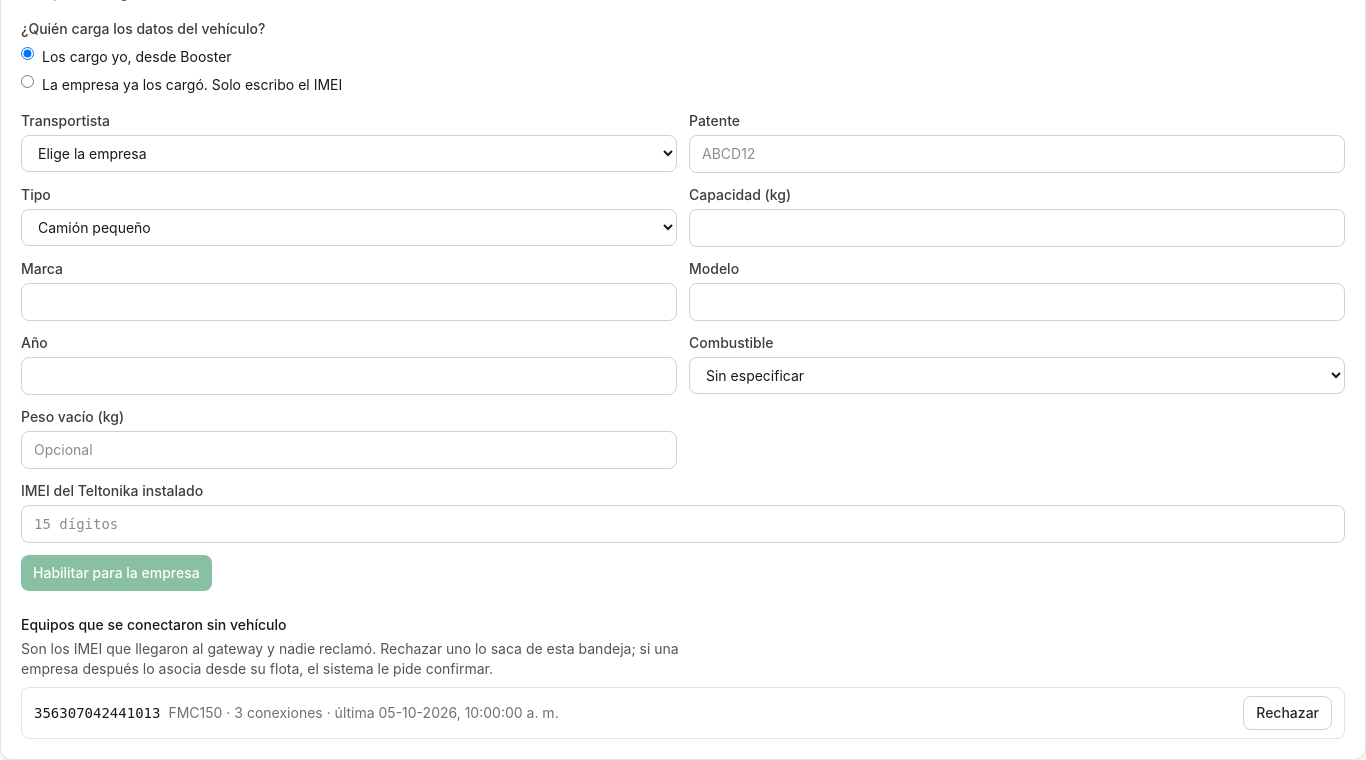
Test: AsociarTeltonika › lista los equipos pendientes y los rechaza desde la plataforma
This screenshot has width=1366, height=760.
(page scrolled)
expect the element with test id "teltonika-pendientes" shows "FMC150": met, box [168,704,222,721]
What coordinates should you click on to do the following:
click the button with test id "teltonika-rechazar-356307042441013"
I would click on:
 (1288, 713)
Its box is [1243,696,1332,730].
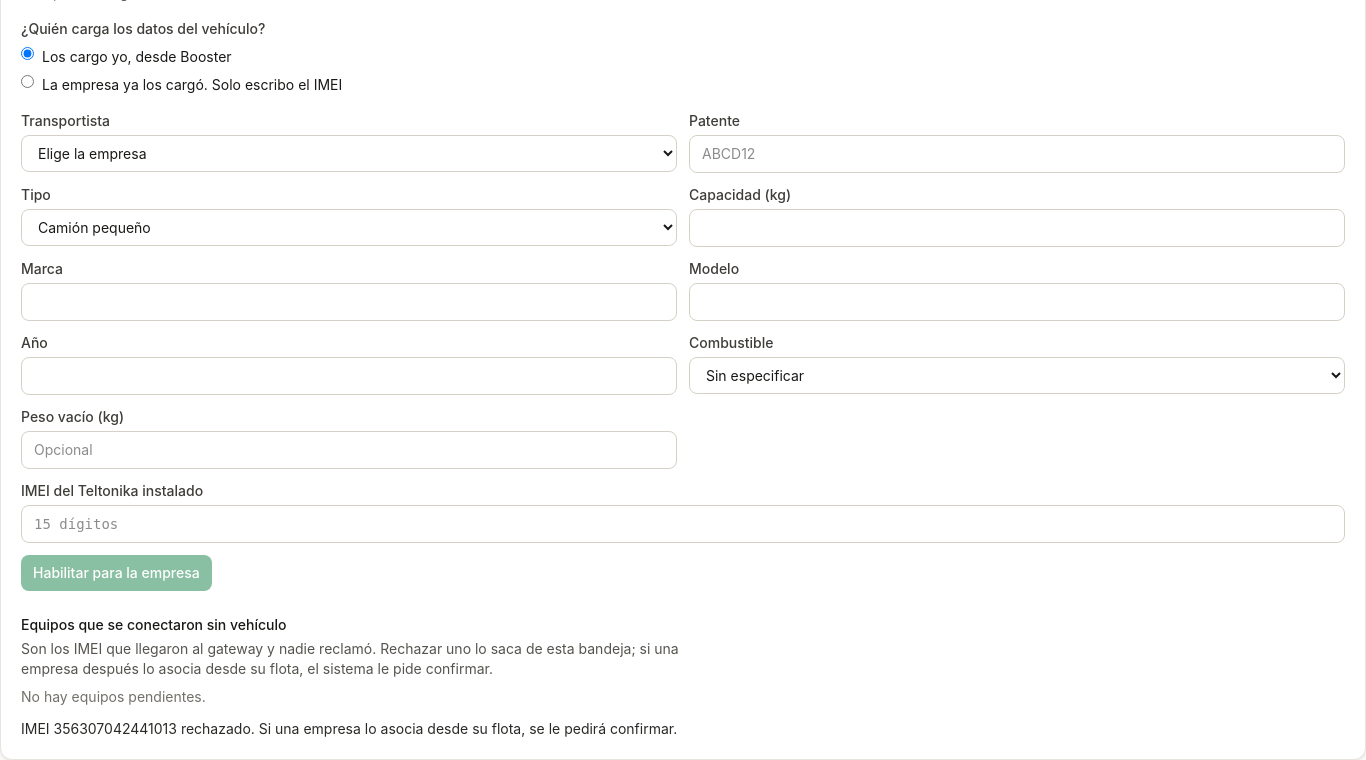
expect the button with test id "teltonika-rechazar-356307042441013" is gone: met
expect the text with test id "teltonika-ok" shows "356307042441013": met, box [21,720,677,737]
expect the element with test id "teltonika-pendientes" shows "No hay equipos pendientes": met, box [21,688,206,705]
